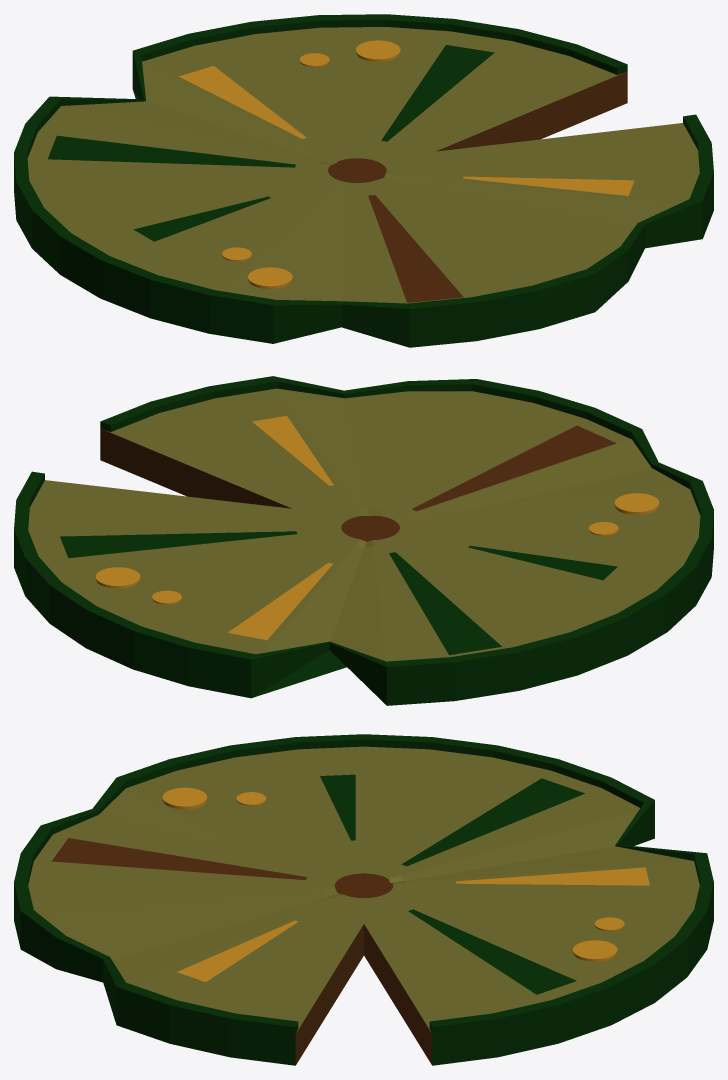
Rendered from Waterlilyleaf_rotten.fbx.
3 views of the same model, one above another, from view 1: azimuth 30°, elevation 25°; view 2: azimuth 150°, elevation 25°; view 3: azimuth 270°, elevation 25° (orthographic).
Visible parts, largest first — view 1: Cylinder.013; view 2: Cylinder.013; view 3: Cylinder.013.
Boxes of the visible parts, box(x1,y1,x2,y2) form: Cylinder.013: box(14, 14, 713, 347); Cylinder.013: box(14, 376, 713, 705); Cylinder.013: box(14, 734, 713, 1065).
Bounding box in the file's own units: 4.56 × 0.28 × 4.6.
